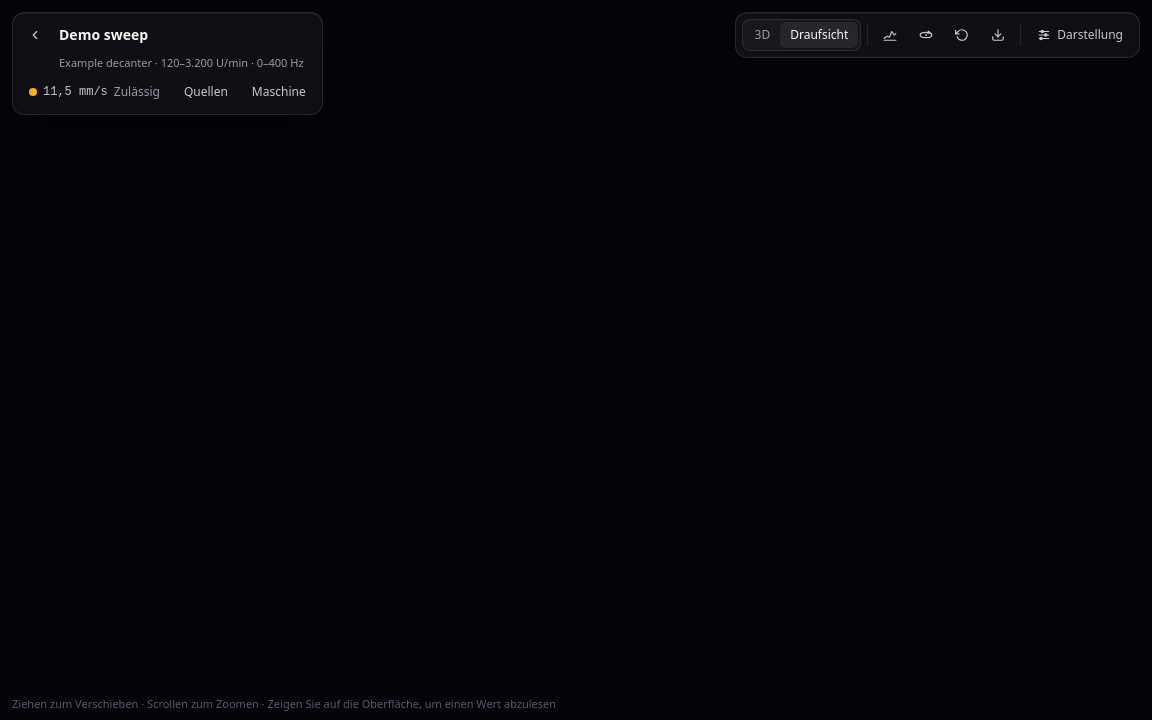
Test: Workspace › shows the whole chrome in German
The image size is (1152, 720).
Expected: the heading reads "Demo sweep", [55,23,172,47]
Expected: the text "Example decanter · 120–3.200 U/min · 0–400 Hz" is shown, [59,55,304,70]
Click the button "Darstellung".
click(1080, 35)  # box [1027,19,1133,51]
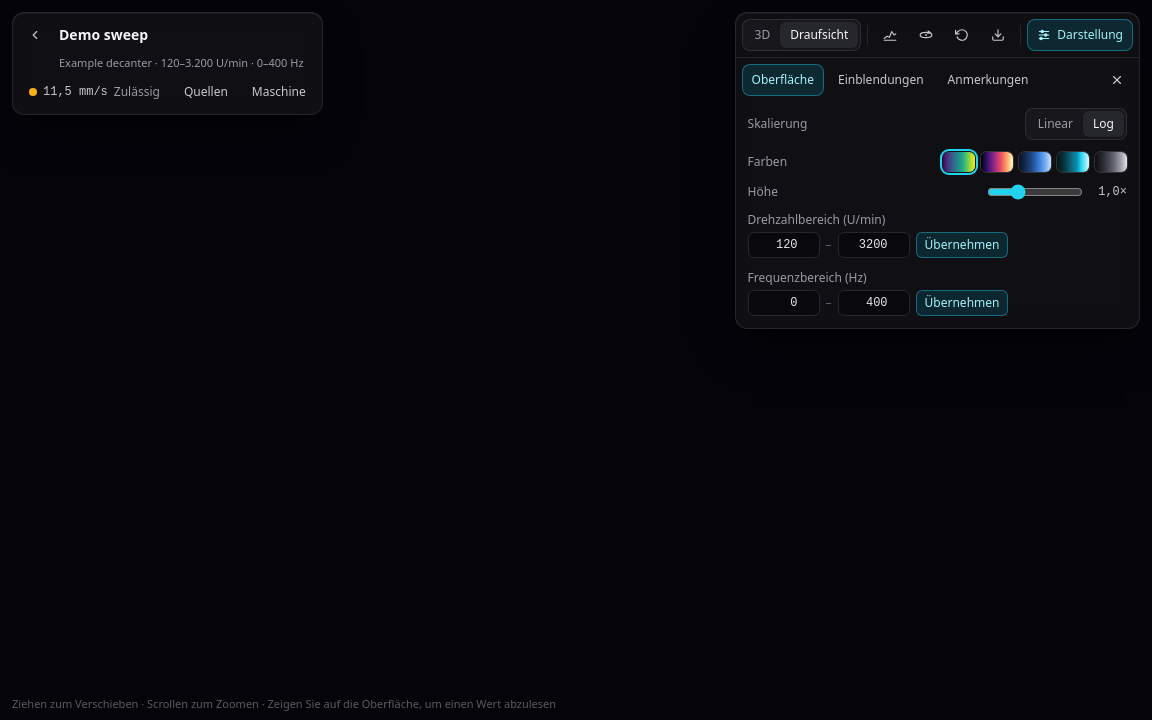
Click the tab "Einblendungen".
click(881, 80)  # box [828,64,934,96]
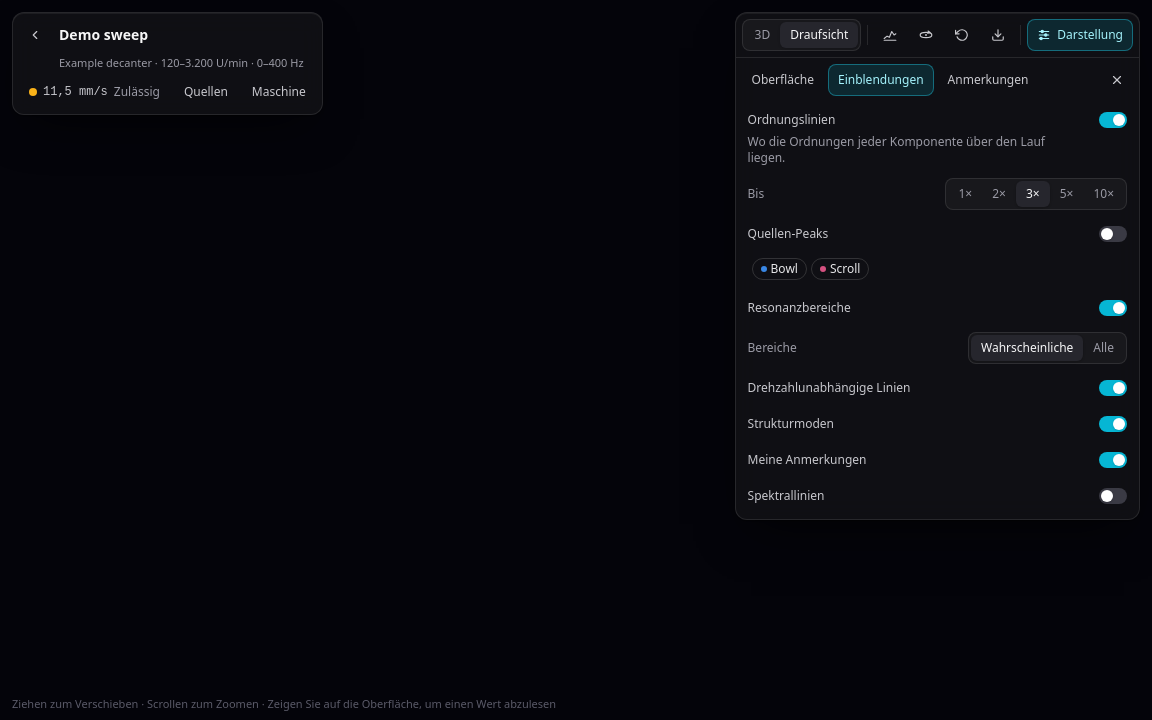
Expected: the switch labelled "Strukturmoden" is shown, [748,412,1127,436]
Expected: the switch labelled "Ordnungslinien" is shown, [748,108,1127,132]
Click the tab "Maschine".
click(279, 92)  # box [242,76,316,108]
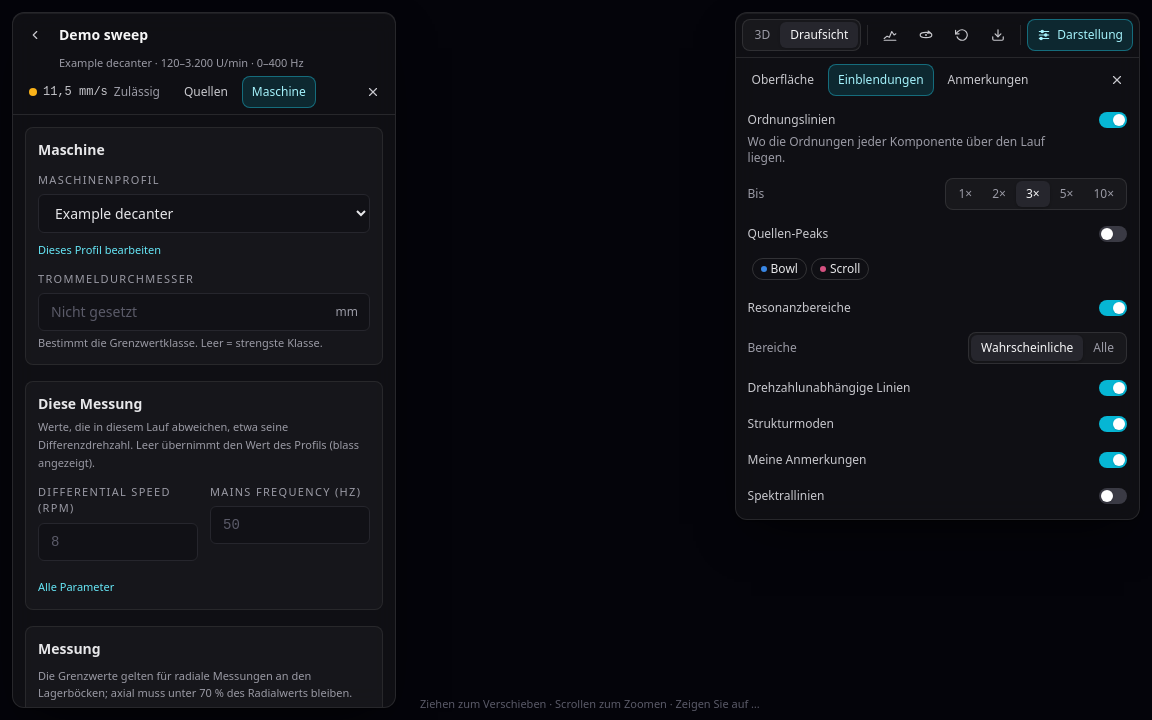
Expected: the dropdown labelled "Maschinenprofil" shows "Example decanter", [38,194,370,233]
